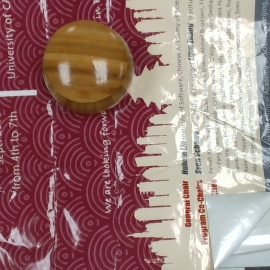chess: (41, 21, 134, 111)
